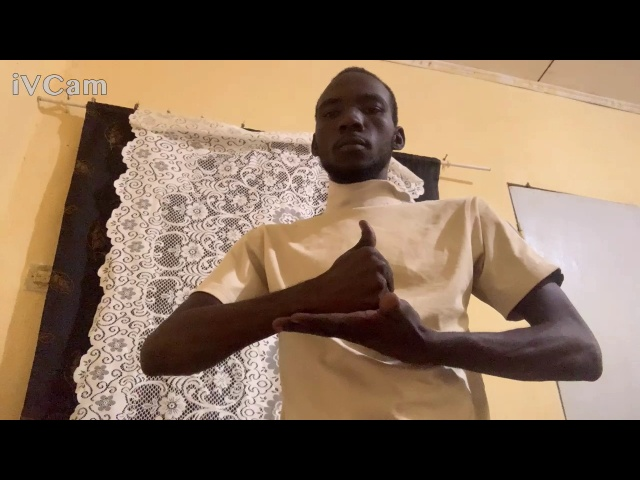aide: (259, 215, 460, 367)
